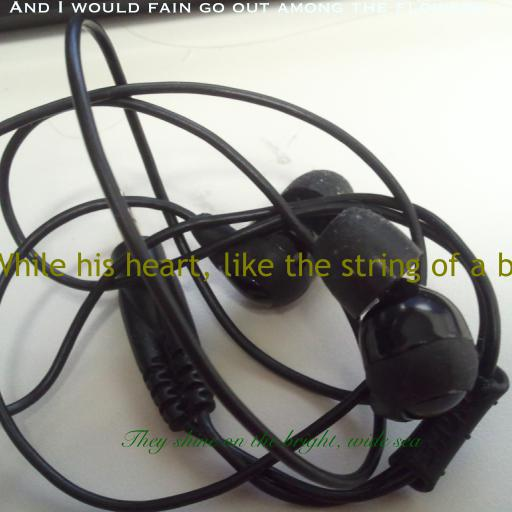Copperplate: (8, 1, 486, 13)
Snell Roundhand: (119, 430, 421, 455)
Trebuchet MS: (0, 252, 512, 283)
